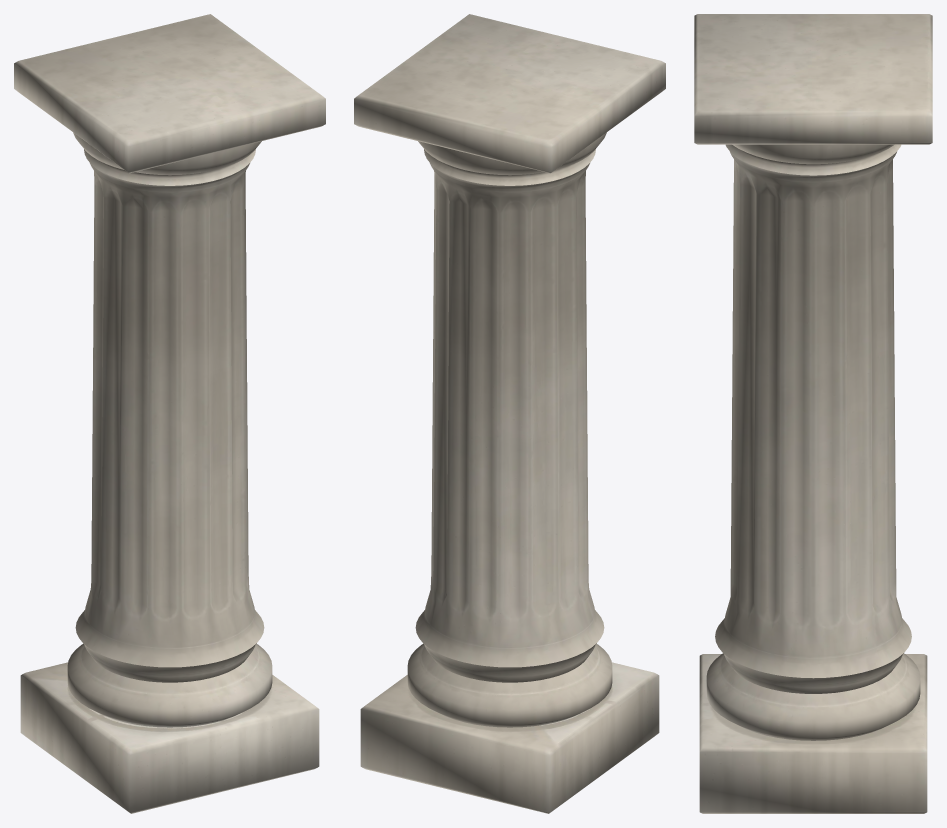
Rendered from StonePedestal.glb.
3 renders of one model, left to right at view 1: azimuth 30°, elevation 25°; view 2: azimuth 150°, elevation 25°; view 3: azimuth 270°, elevation 25°, orthographic. The views are drawn at different scales.
Visible parts, largest first — view 1: StonePedestal; view 2: StonePedestal; view 3: StonePedestal.
Part boxes in pixels (x1=…): StonePedestal: x1=14, y1=14, x2=325, y2=813; StonePedestal: x1=354, y1=14, x2=665, y2=813; StonePedestal: x1=694, y1=14, x2=932, y2=813.
Size of the model in its own units: 0.276 by 0.9 by 0.276.
1 material, 1 textured.
